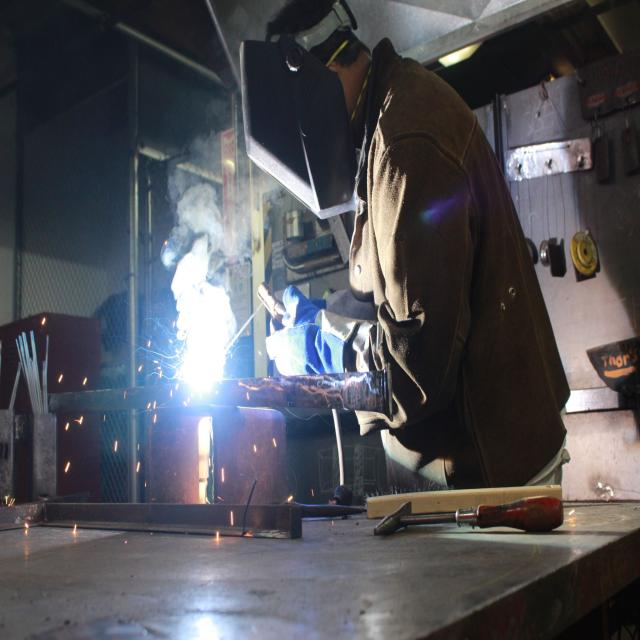welding: (187, 342, 226, 390)
